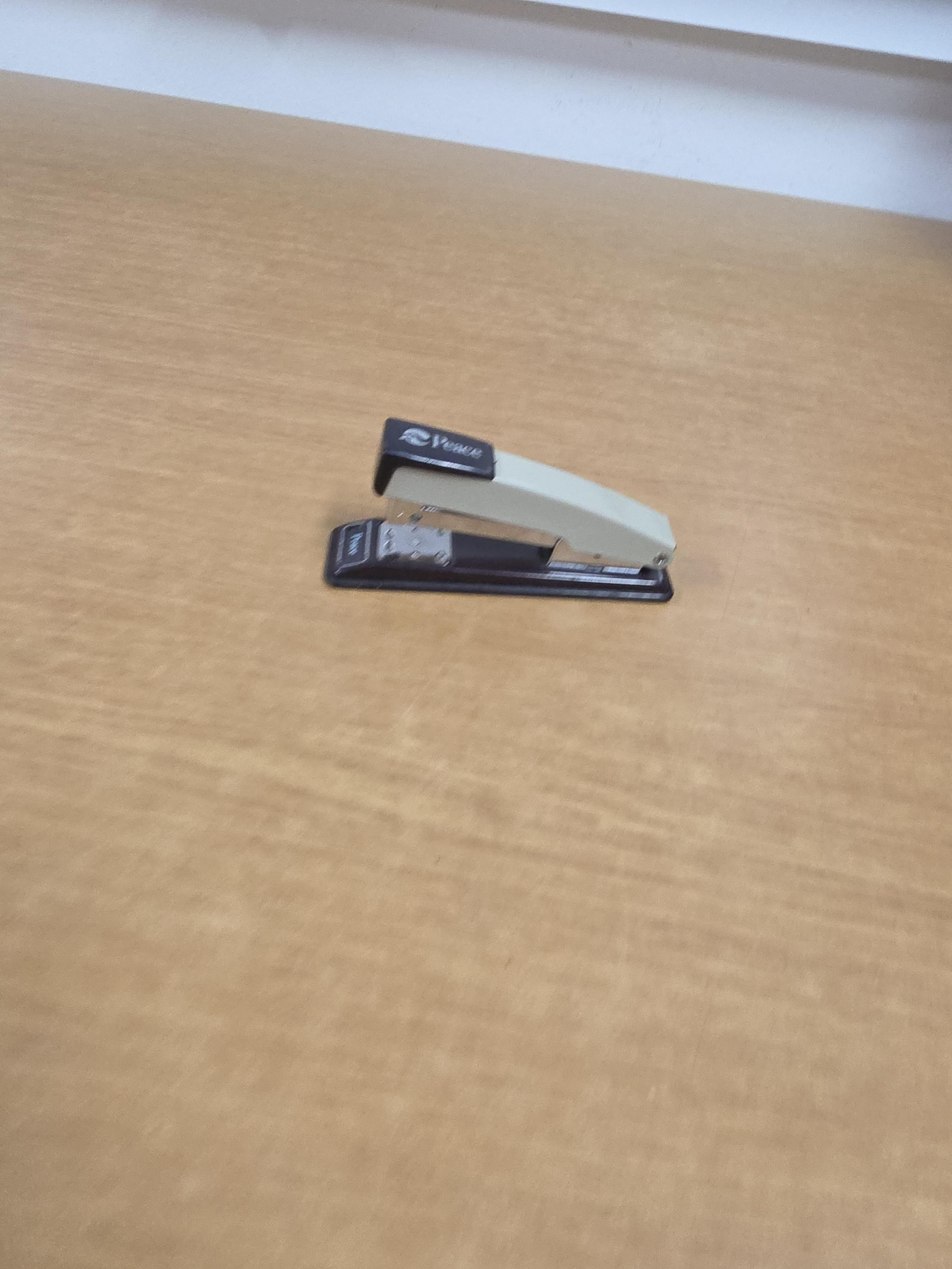stapler: (322, 417, 678, 607)
